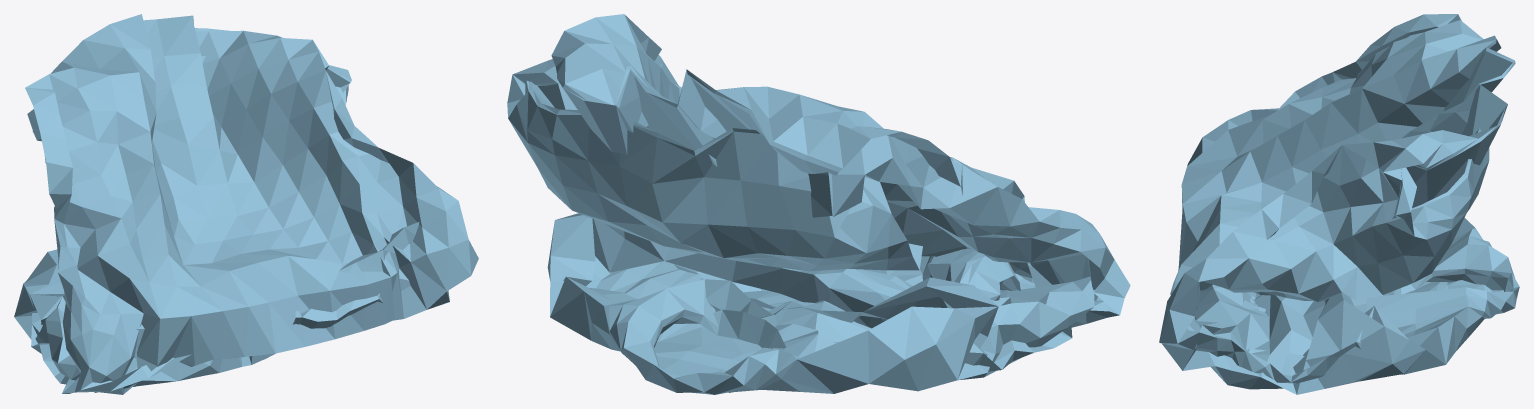
The model's file is frame_18.glb.
3 renders of one model, left to right at view 1: azimuth 30°, elevation 25°; view 2: azimuth 150°, elevation 25°; view 3: azimuth 270°, elevation 25°, orthographic. The views are drawn at different scales.
Visible parts, largest first — view 1: frame_18.obj; view 2: frame_18.obj; view 3: frame_18.obj.
Boxes of the visible parts, left/top/right/bottom form: frame_18.obj: left=14, top=14, right=478, bottom=394; frame_18.obj: left=507, top=14, right=1130, bottom=394; frame_18.obj: left=1159, top=14, right=1519, bottom=394.
Size of the model in its own units: 1.09 by 0.6689 by 0.7966.
